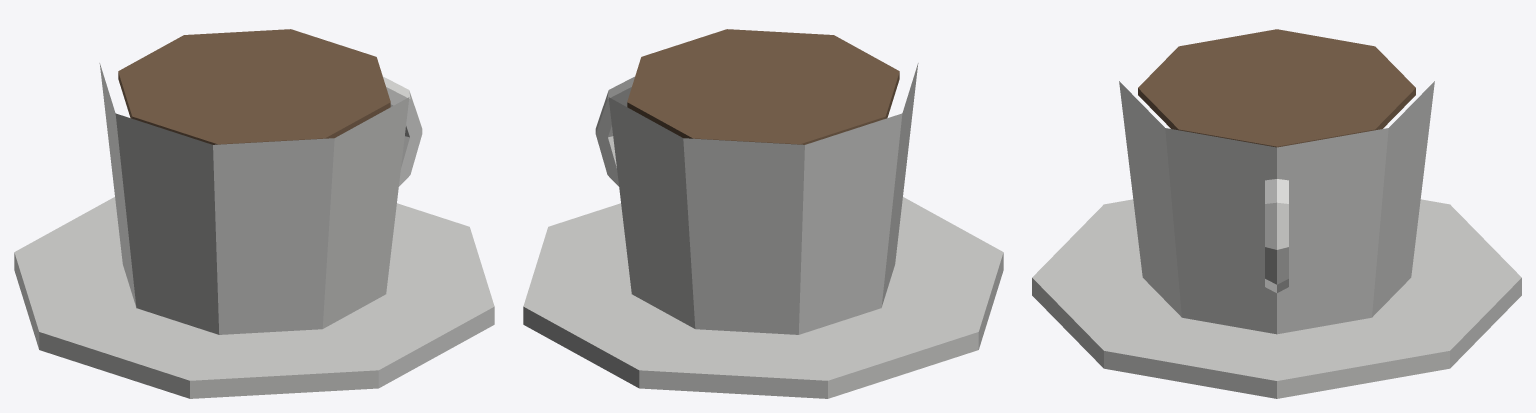
The model's file is lowpoly_coffee_cup.glb.
The picture shows the model from 3 angles, left to right: view 1: azimuth 30°, elevation 25°; view 2: azimuth 150°, elevation 25°; view 3: azimuth 270°, elevation 25°; orthographic projection.
Visible parts, largest first — view 1: geometry_0; view 2: geometry_0; view 3: geometry_0.
Boxes of the visible parts, x1,y1,x2,y2 form: geometry_0: (14, 29, 494, 398); geometry_0: (523, 29, 1003, 398); geometry_0: (1032, 29, 1521, 398).
Size of the model in its own units: 1.24 by 0.6 by 1.24.
